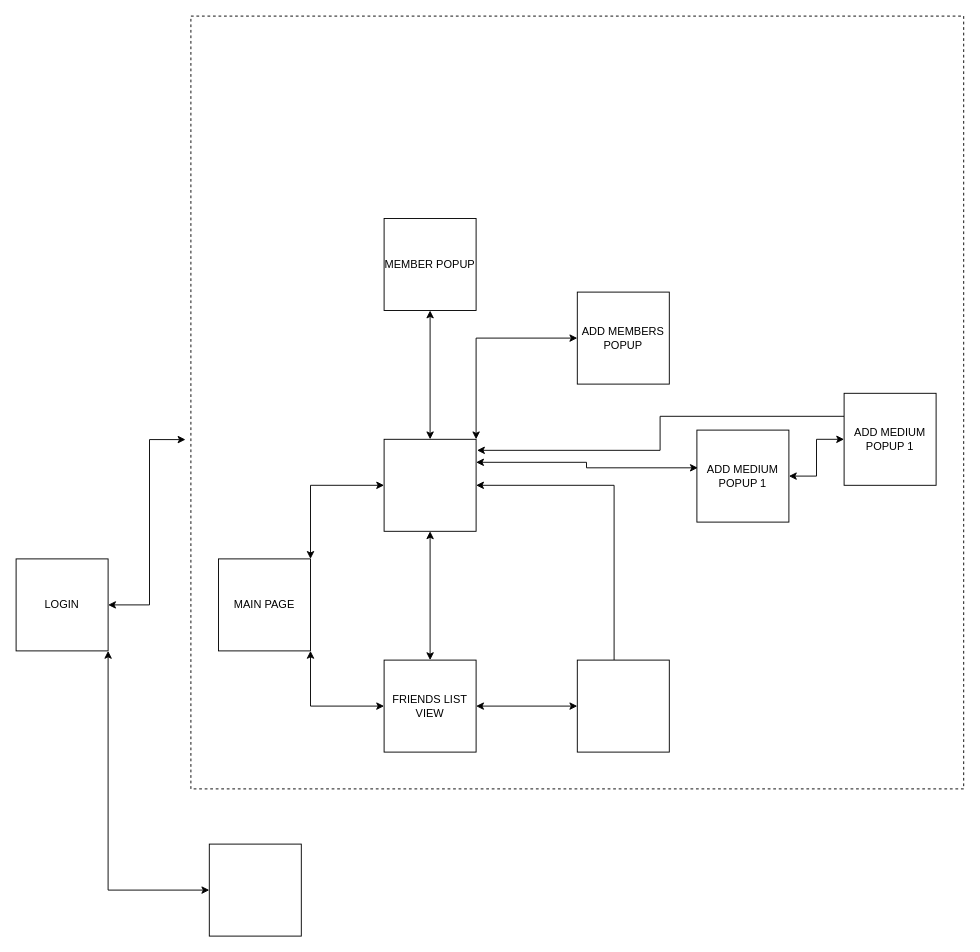
Some shapes in this 980 by 952 pixel diagram are drawn without their labels. Each missing label, with the centre of its shape:
FRIEND POPUP: [622,705]
GROUP VIEW: [429,484]
REGISTER: [254,889]
